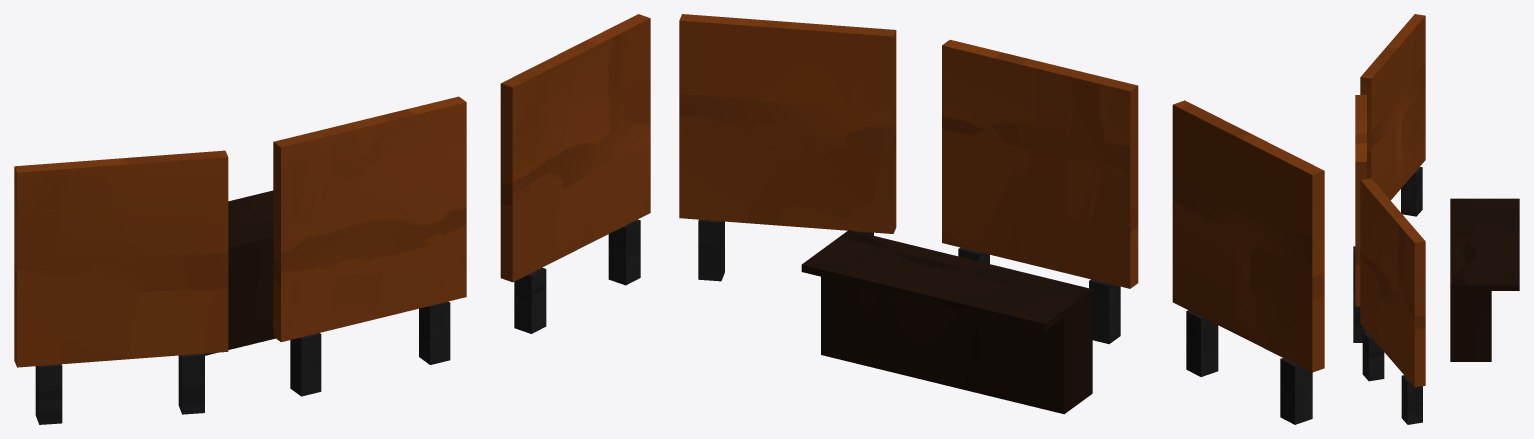
The model's file is BalloonPopBoard.glb.
3 renders of one model, left to right at view 1: azimuth 30°, elevation 25°; view 2: azimuth 150°, elevation 25°; view 3: azimuth 270°, elevation 25°, orthographic. The views are drawn at different scales.
Parts seen in each view (by area): view 1: BoardRight_MESH, BoardCenter_MESH, BoardLeft_MESH, BoardStand_MESH, DartTable_MESH; view 2: BoardLeft_MESH, BoardCenter_MESH, DartTable_MESH, BoardRight_MESH, BoardStand_MESH; view 3: BoardLeft_MESH, DartTable_MESH, BoardRight_MESH, BoardStand_MESH, BoardCenter_MESH.
Part boxes in pixels (x1,y1,x2,y2): BoardRight_MESH: [14, 150, 228, 367]; BoardCenter_MESH: [273, 96, 466, 342]; BoardLeft_MESH: [500, 14, 650, 282]; BoardStand_MESH: [35, 219, 640, 424]; DartTable_MESH: [204, 190, 275, 355]; BoardLeft_MESH: [679, 14, 896, 233]; BoardCenter_MESH: [942, 39, 1138, 288]; DartTable_MESH: [801, 230, 1092, 414]; BoardRight_MESH: [1172, 100, 1324, 372]; BoardStand_MESH: [698, 219, 1312, 424]; BoardLeft_MESH: [1360, 178, 1425, 387]; DartTable_MESH: [1450, 198, 1519, 361]; BoardRight_MESH: [1360, 14, 1425, 200]; BoardStand_MESH: [1353, 167, 1422, 424]; BoardCenter_MESH: [1355, 95, 1366, 306].
Size of the model in its own units: 6.75 by 2.57 by 2.08.
1 material, 1 textured.
